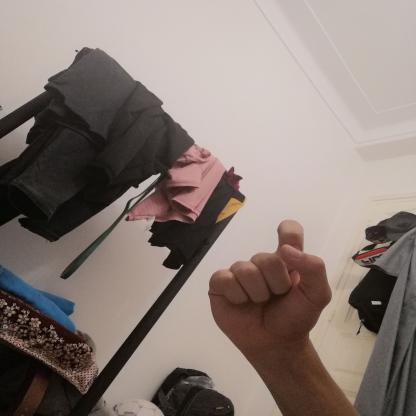FAA: (191, 210, 348, 358)
